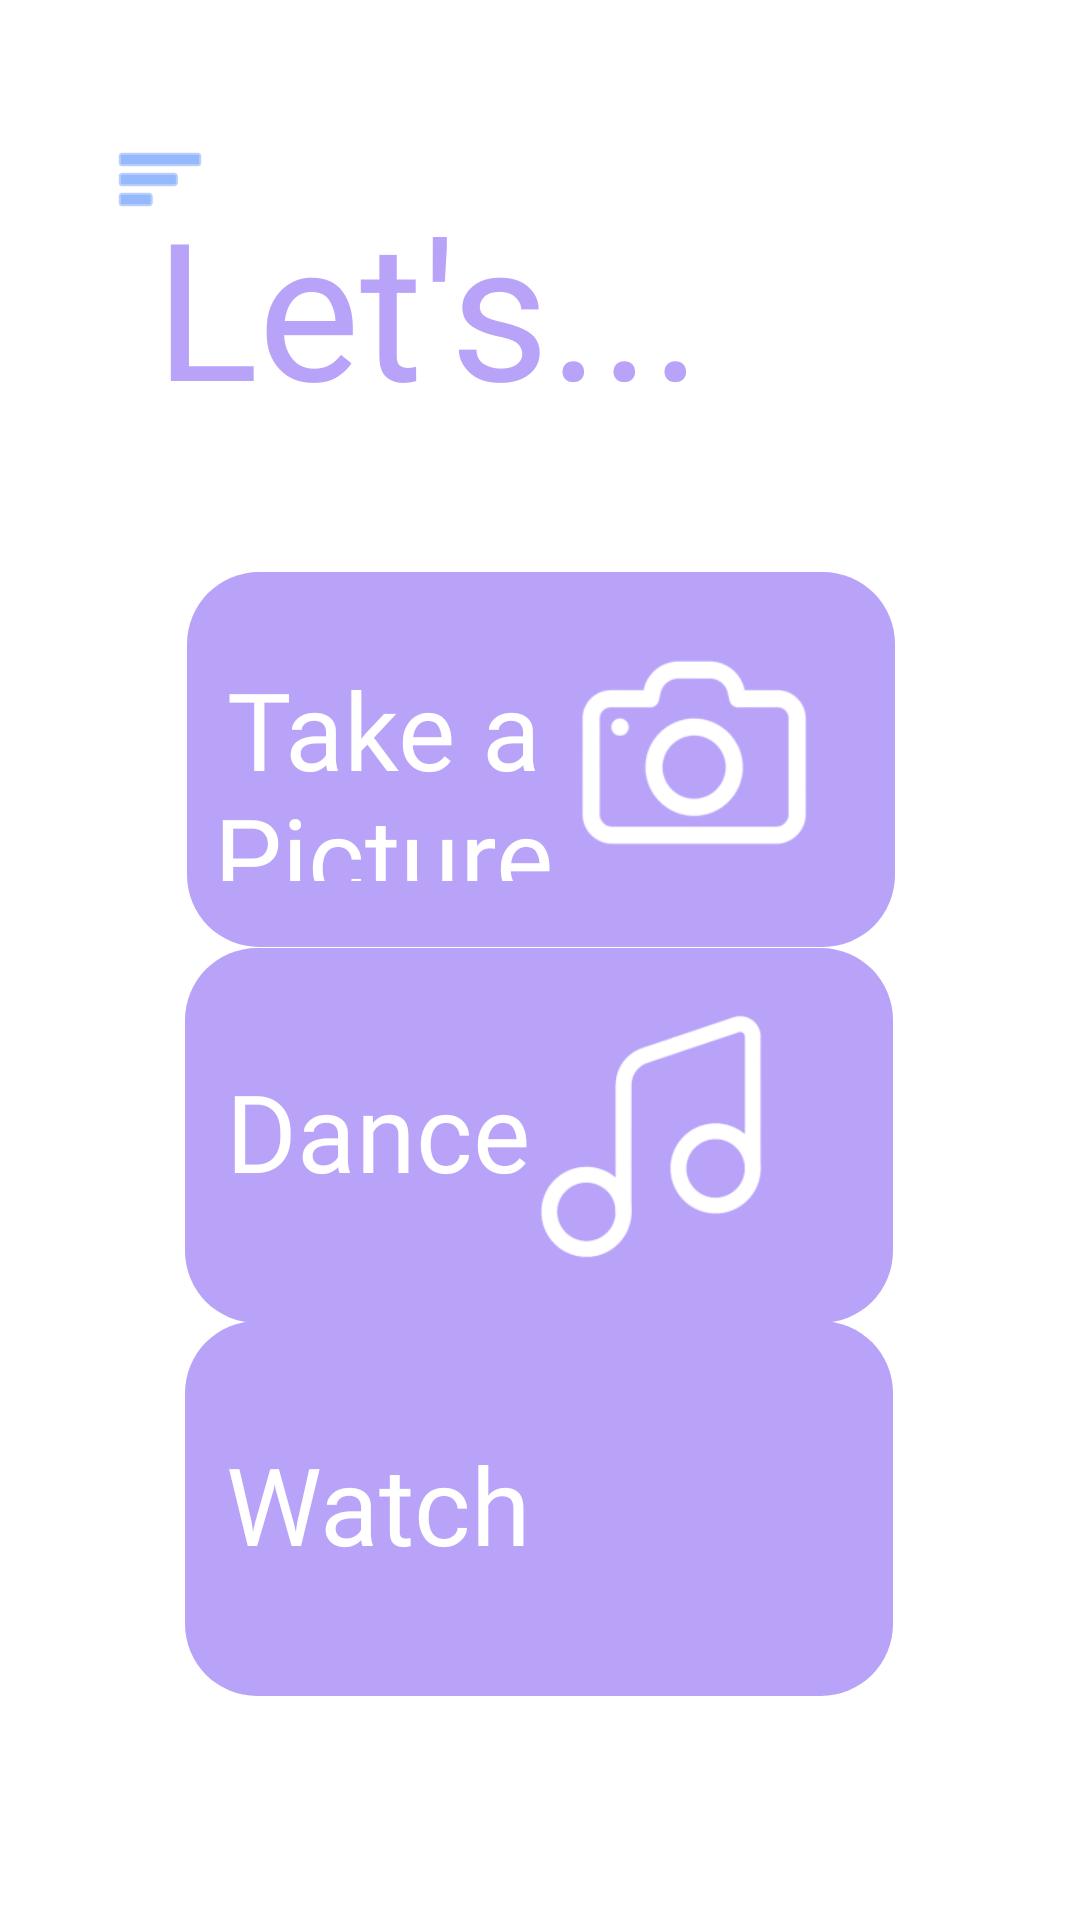

Named icons in this screenshot (1080 x 1920) and their centers, (x=x, y=y):
sort by size: (x=160, y=179)
